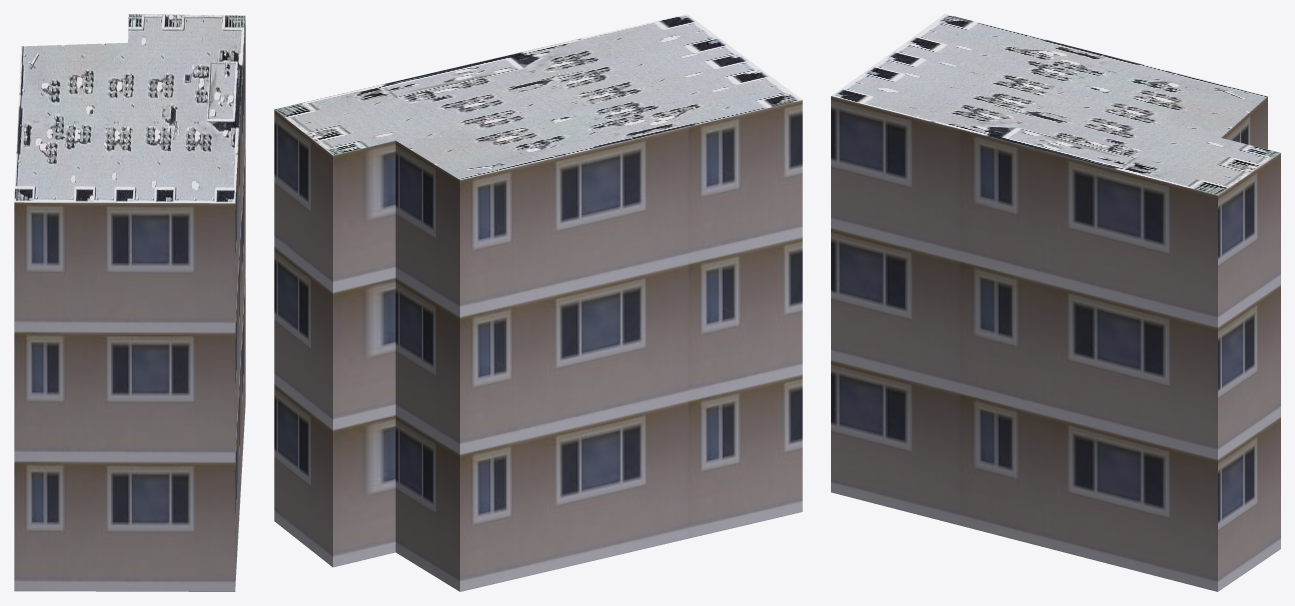
Rendered from ResTex__2617.fbx.
3 renders of one model, left to right at view 1: azimuth 30°, elevation 25°; view 2: azimuth 150°, elevation 25°; view 3: azimuth 270°, elevation 25°, orthographic. The views are drawn at different scales.
Parts seen in each view (by area): view 1: CityEngineMaterial_21_m, CityEngineMaterial_m; view 2: CityEngineMaterial_21_m, CityEngineMaterial_m; view 3: CityEngineMaterial_21_m, CityEngineMaterial_m.
Boxes of the visible parts, x1=… form: CityEngineMaterial_21_m: x1=14, y1=19, x2=245, y2=591; CityEngineMaterial_m: x1=14, y1=14, x2=245, y2=203; CityEngineMaterial_21_m: x1=274, y1=100, x2=802, y2=591; CityEngineMaterial_m: x1=275, y1=14, x2=801, y2=179; CityEngineMaterial_21_m: x1=831, y1=96, x2=1280, y2=591; CityEngineMaterial_m: x1=831, y1=14, x2=1280, y2=195.
Size of the model in its own units: 8.84 by 9 by 9.26.
Materials: 2 (2 with a texture image).
